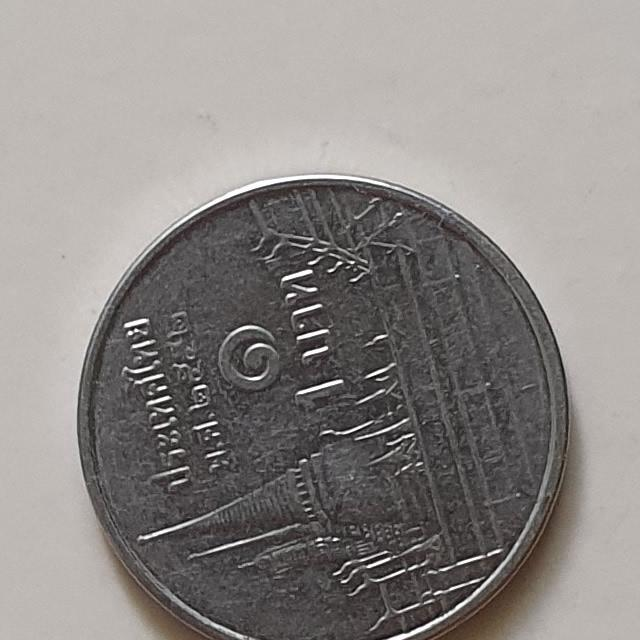1 Bath: (72, 165, 581, 640)
